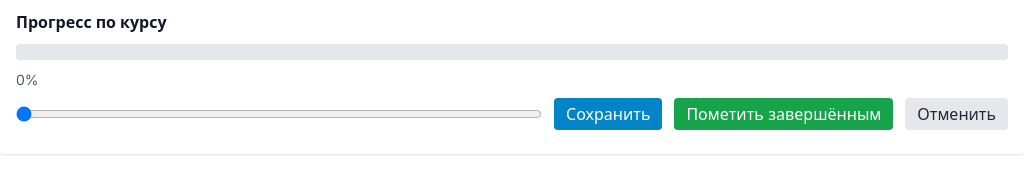
Test: ProgressTracker › saves progress on save button click
This screenshot has width=1024, height=192.
Set the slider to "50". click: (279, 114)
box: [16,106,542,122]
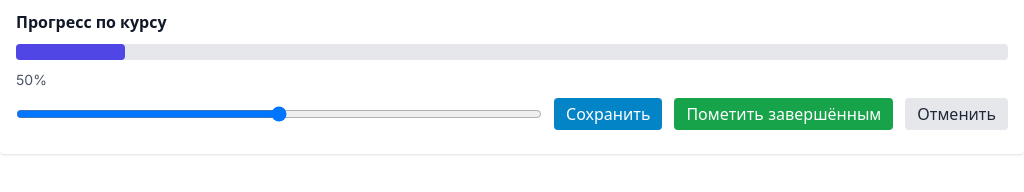
Click the button "Сохранить". click: (608, 114)
box: [554,98,662,130]
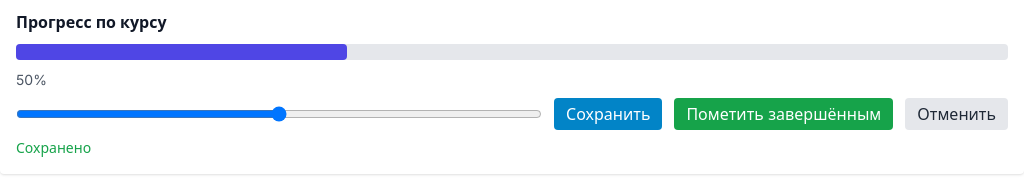
Check: the text "Сохранено" is shown, box [16,139,91,156]
